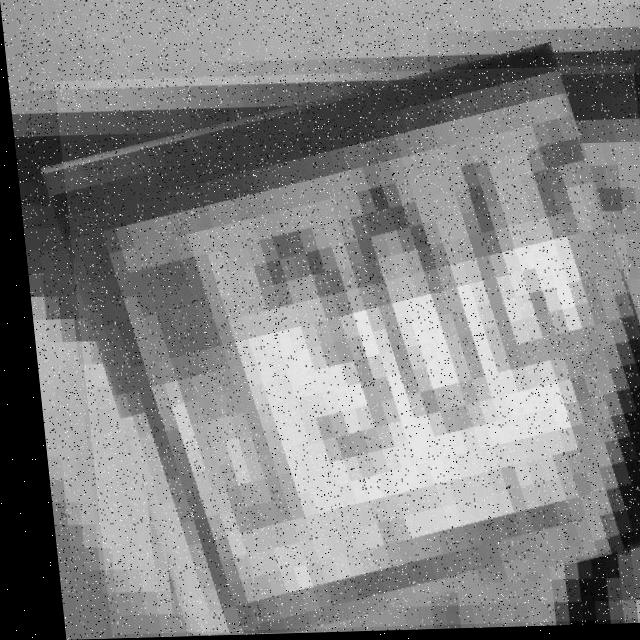LicensePlate: (53, 68, 640, 635)
